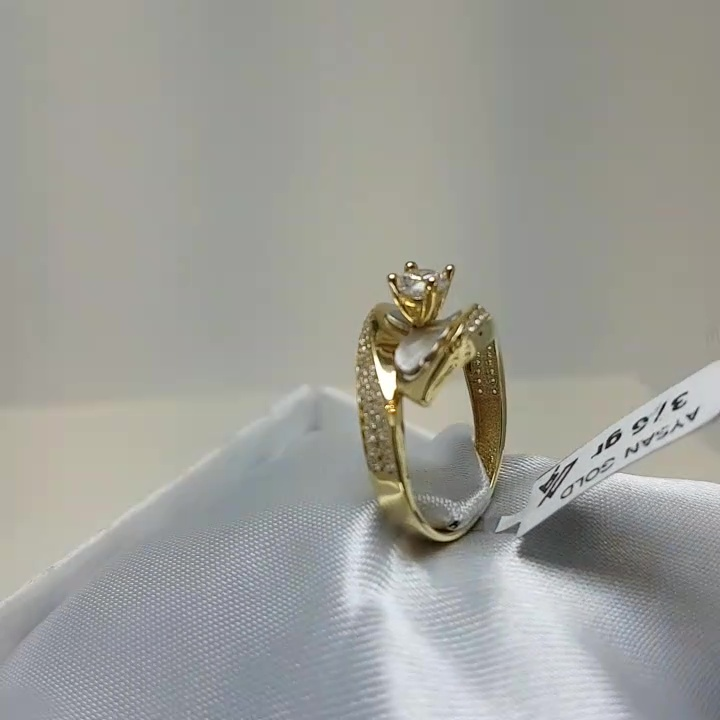Ring 6: (348, 251, 535, 558)
